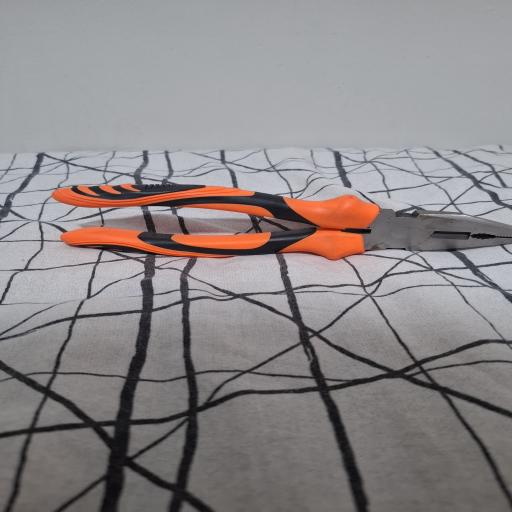alicate: (50, 180, 512, 262)
